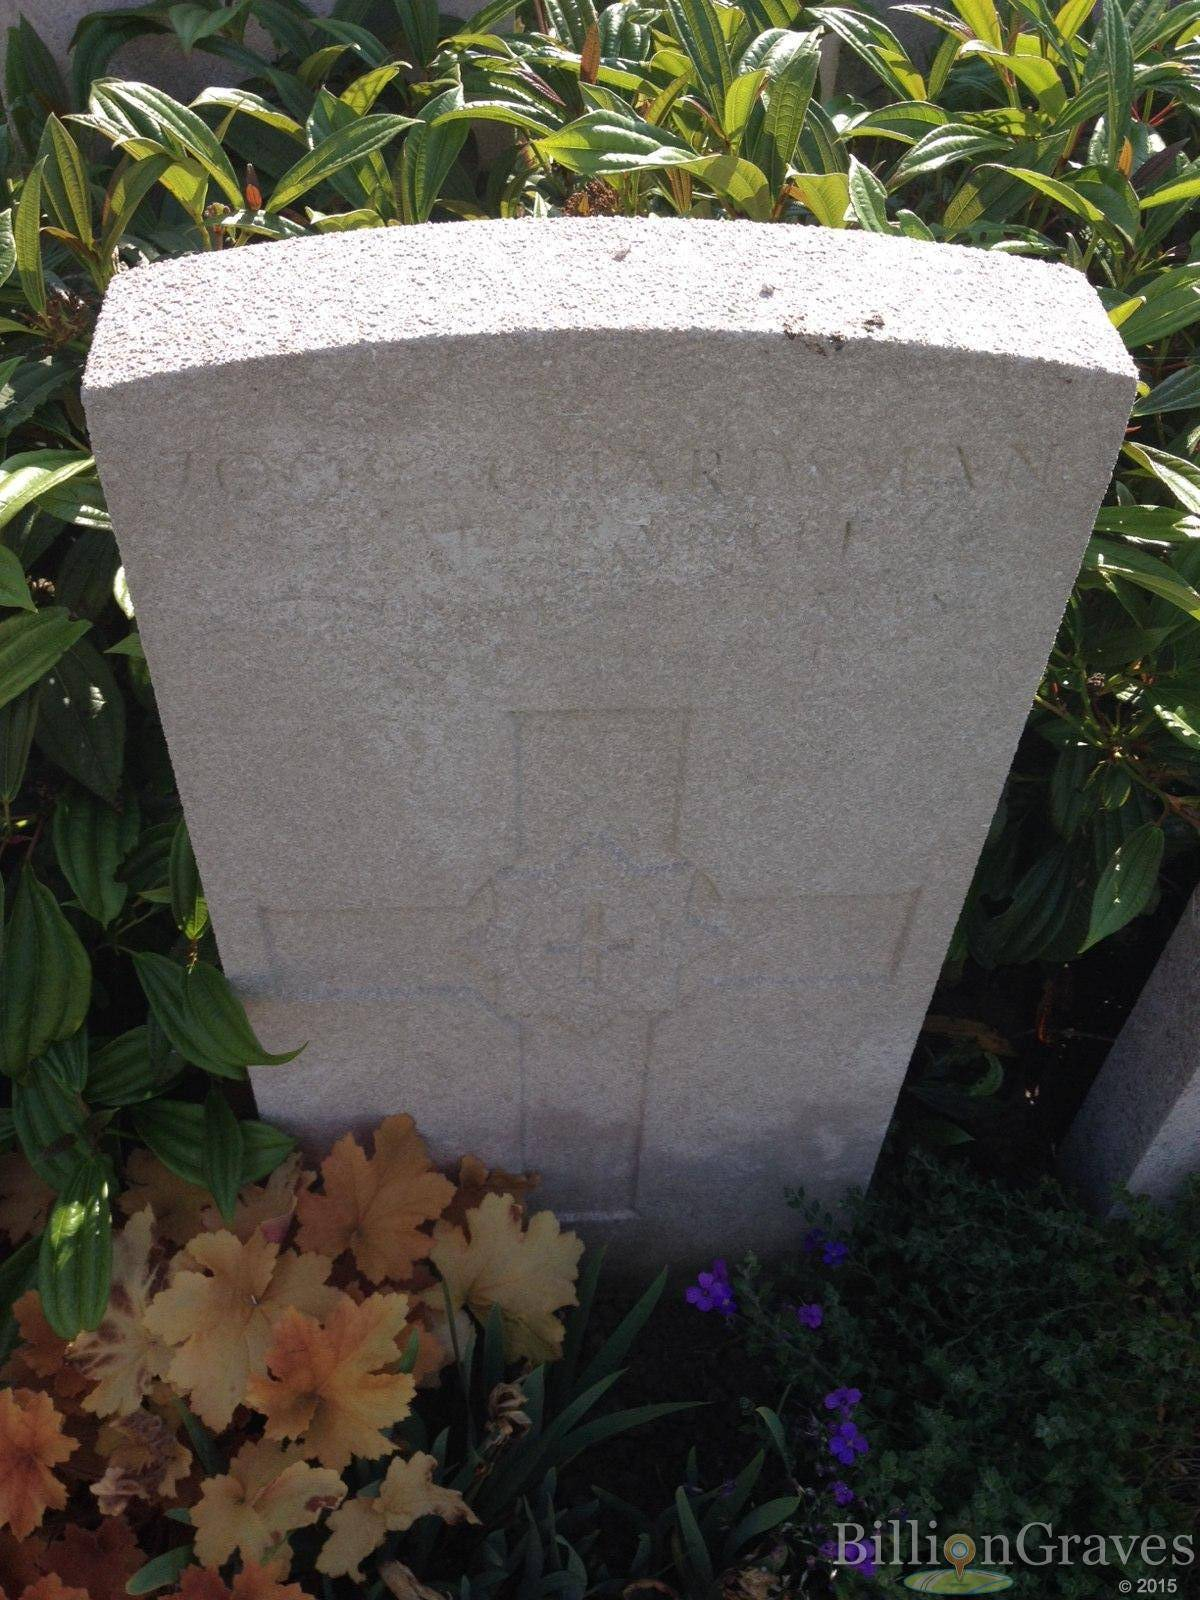upright: (84, 236, 1137, 1272)
